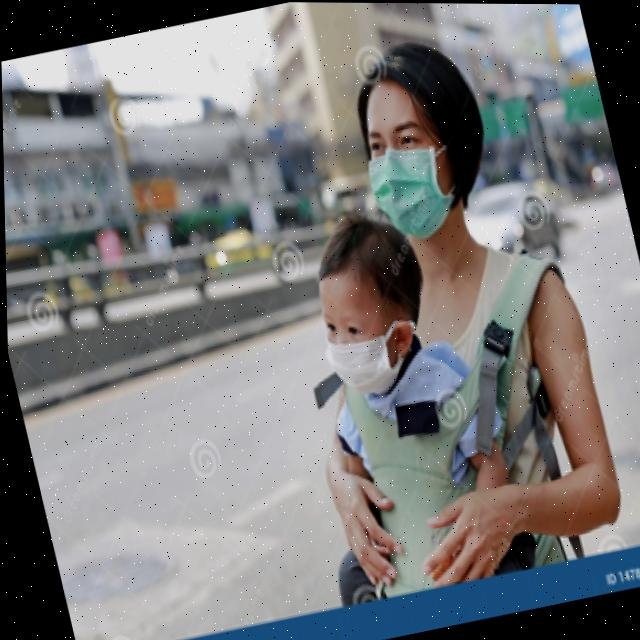Mask: (355, 109, 475, 248), (317, 298, 427, 404)
